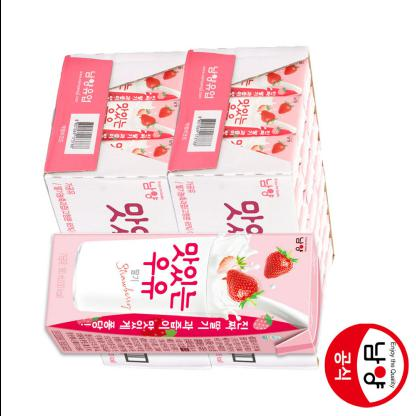tetra: (35, 220, 334, 382)
